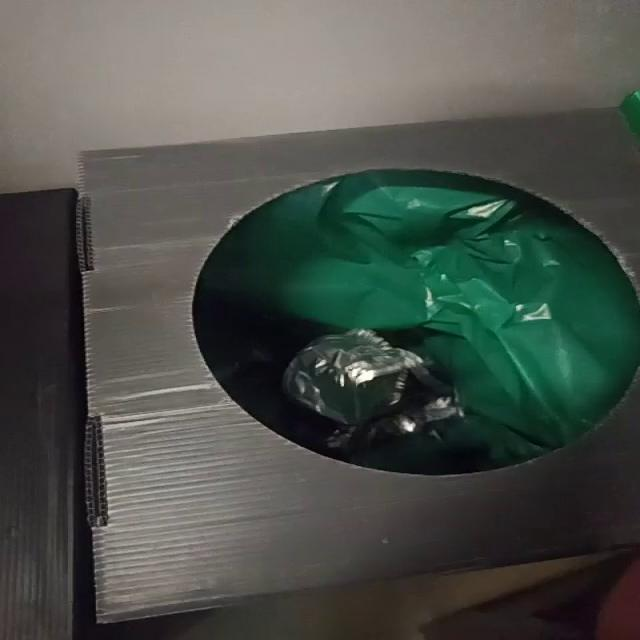Bin: (80, 109, 639, 622)
Metal: (283, 329, 423, 425)
